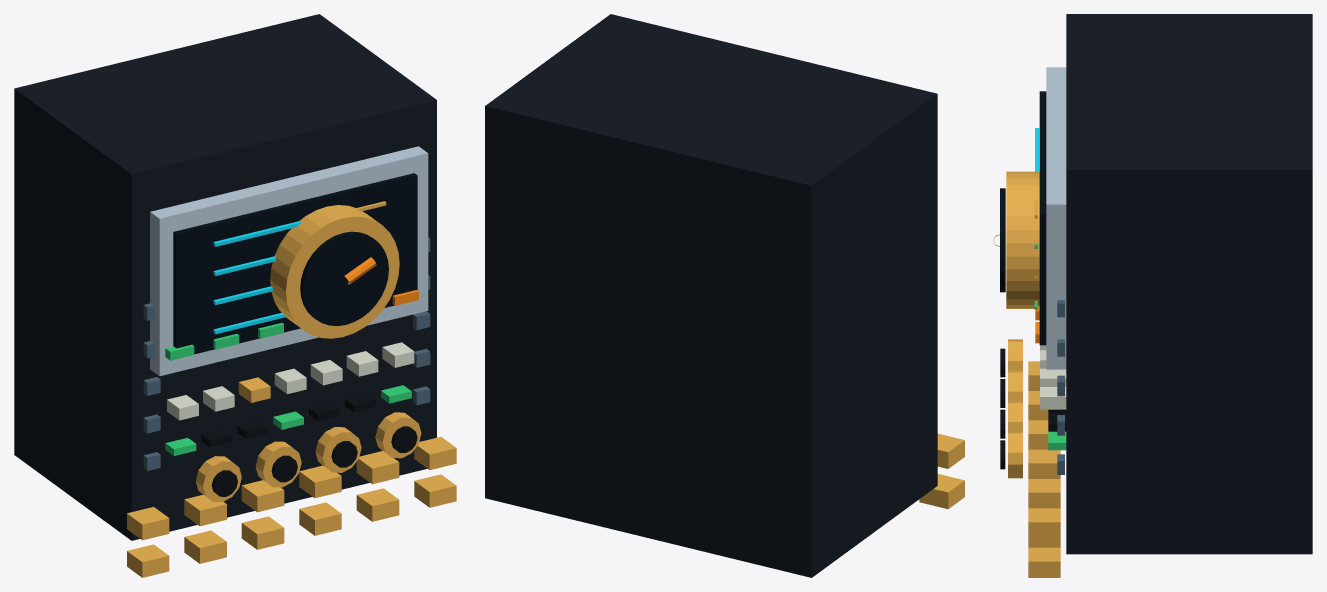
The model's file is 41_L92_DrillTorqueTransducer.fbx.
The picture shows the model from 3 angles, left to right: view 1: azimuth 30°, elevation 25°; view 2: azimuth 150°, elevation 25°; view 3: azimuth 270°, elevation 25°; orthographic projection. The views are drawn at different scales.
Visible parts, largest first — view 1: L92_DrillTorqueTransducer, L92_DrillTorqueTransducer_Part_0013, L92_DrillTorqueTransducer_Part_0017, L92_DrillTorqueTransducer_Part_0015, L92_DrillTorqueTransducer_Part_0011, L92_DrillTorqueTransducer_Part_0009, L92_DrillTorqueTransducer_Part_0010, L92_DrillTorqueTransducer_Part_0014; view 2: L92_DrillTorqueTransducer; view 3: L92_DrillTorqueTransducer, L92_DrillTorqueTransducer_Part_0017, L92_DrillTorqueTransducer_Part_0015, L92_DrillTorqueTransducer_Part_0011, L92_DrillTorqueTransducer_Part_0013.
Part boxes in pixels (<box>): L92_DrillTorqueTransducer: <box>14,14,456,577</box>; L92_DrillTorqueTransducer_Part_0013: <box>255,441,301,487</box>; L92_DrillTorqueTransducer_Part_0017: <box>375,412,421,458</box>; L92_DrillTorqueTransducer_Part_0015: <box>315,427,361,472</box>; L92_DrillTorqueTransducer_Part_0011: <box>195,456,241,501</box>; L92_DrillTorqueTransducer_Part_0009: <box>165,323,283,360</box>; L92_DrillTorqueTransducer_Part_0010: <box>344,257,418,305</box>; L92_DrillTorqueTransducer_Part_0014: <box>271,455,297,482</box>; L92_DrillTorqueTransducer: <box>485,14,964,577</box>; L92_DrillTorqueTransducer: <box>1000,14,1312,577</box>; L92_DrillTorqueTransducer_Part_0017: <box>1008,431,1022,478</box>; L92_DrillTorqueTransducer_Part_0015: <box>1008,400,1022,431</box>; L92_DrillTorqueTransducer_Part_0011: <box>1008,339,1022,369</box>; L92_DrillTorqueTransducer_Part_0013: <box>1008,370,1022,400</box>.
Bounding box in the file's own units: 105 × 124 × 88.1.
